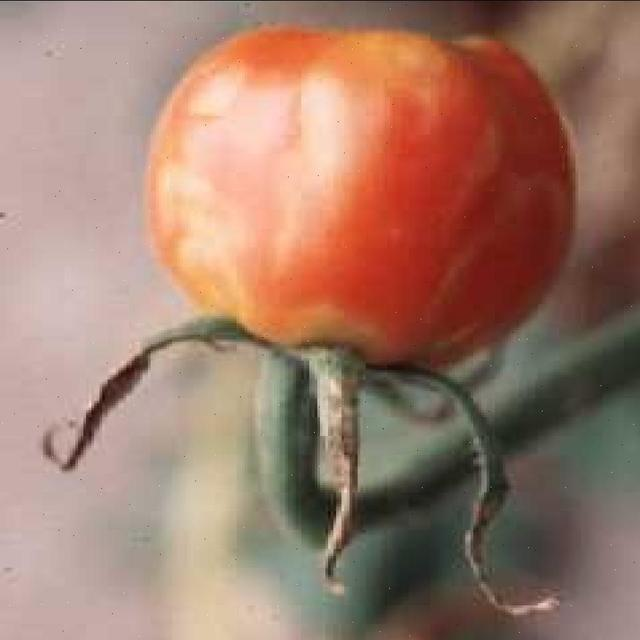Spotted wilt Virus Fruit: (201, 60, 556, 100)
